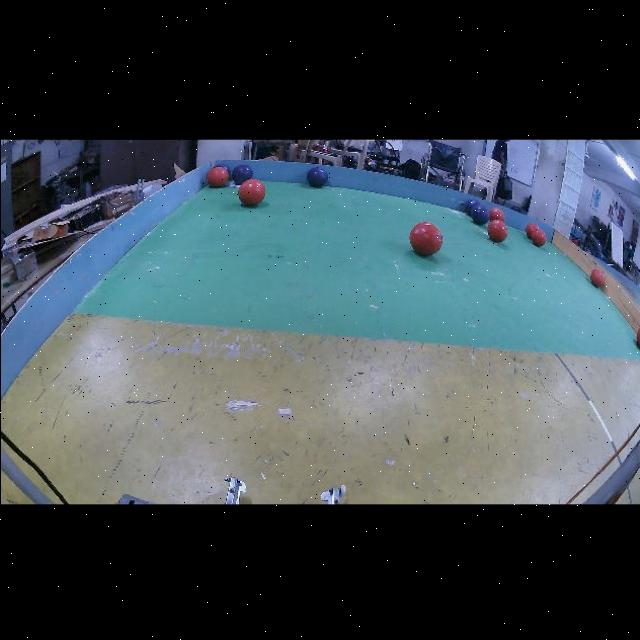P: (230, 164, 252, 184), (306, 167, 327, 187), (470, 205, 489, 224), (214, 162, 230, 176)
R: (409, 221, 442, 255), (237, 178, 265, 205), (206, 165, 228, 187), (486, 218, 506, 241), (530, 227, 546, 245), (589, 268, 603, 287), (489, 207, 504, 220), (524, 222, 537, 237), (635, 326, 640, 348)
